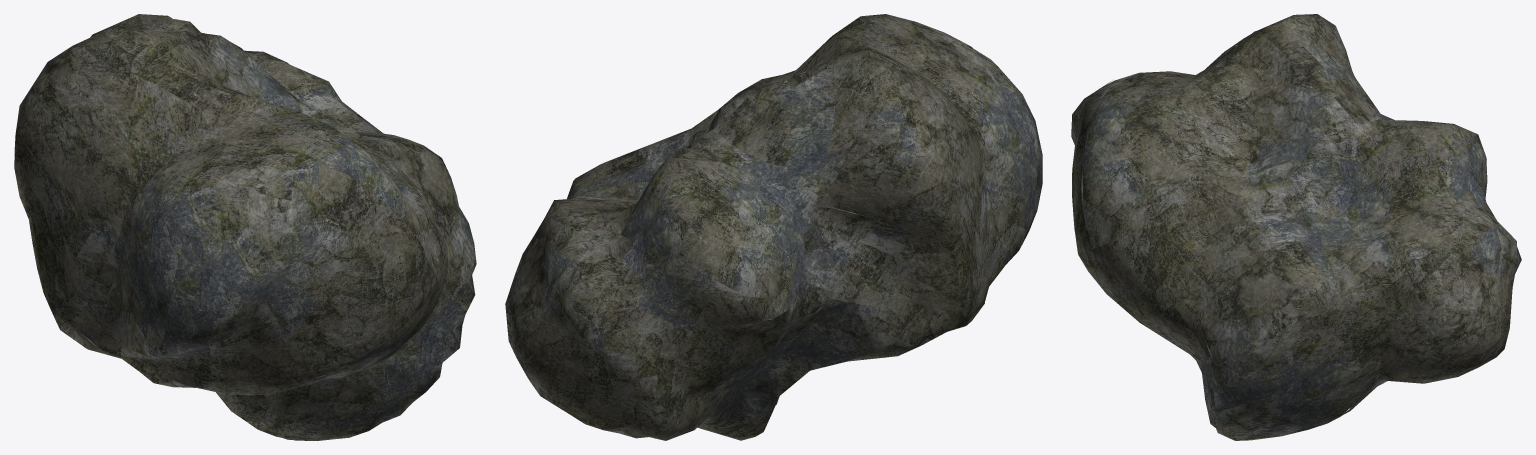
Rendered from boulder_d.glb.
The picture shows the model from 3 angles, left to right: view 1: azimuth 30°, elevation 25°; view 2: azimuth 150°, elevation 25°; view 3: azimuth 270°, elevation 25°; orthographic projection. The views are drawn at different scales.
Parts seen in each view (by area): view 1: boulder_d; view 2: boulder_d; view 3: boulder_d.
Boxes of the visible parts, x1=… form: boulder_d: x1=14, y1=14, x2=476, y2=440; boulder_d: x1=505, y1=14, x2=1042, y2=440; boulder_d: x1=1071, y1=14, x2=1521, y2=440.
Bounding box in the file's own units: 2.97 × 2.99 × 3.46.
Materials: 1 (1 with a texture image).
